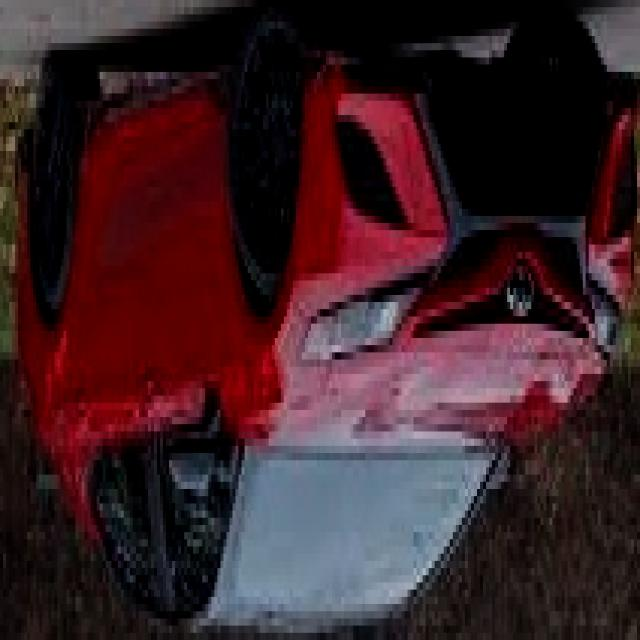maroon: (14, 62, 636, 629)
